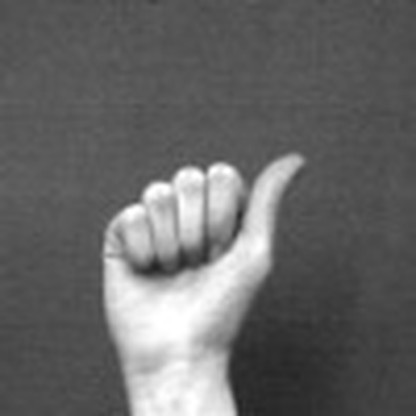a: (90, 139, 318, 397)
